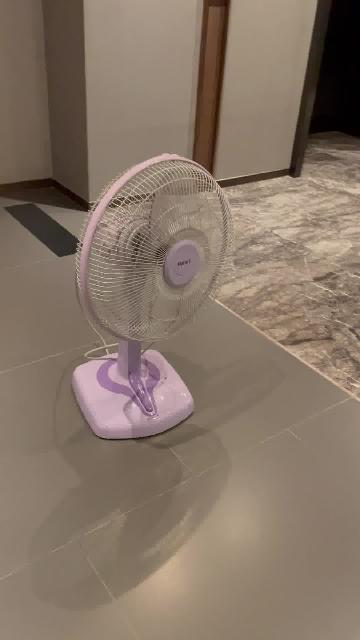Fan: (72, 154, 233, 440)
